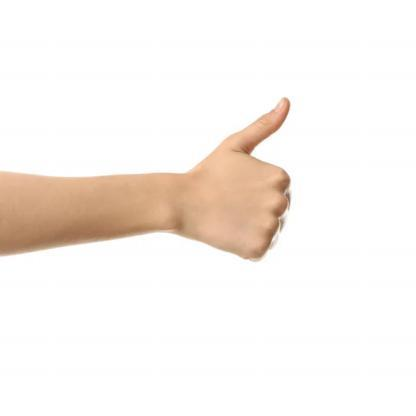thumb_up: (176, 98, 297, 262)
